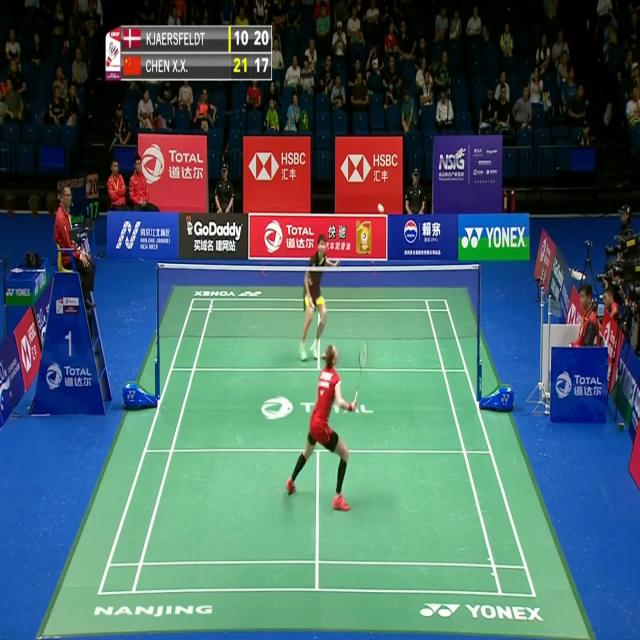Player1: (284, 337, 370, 515)
Player2: (297, 230, 345, 358)
